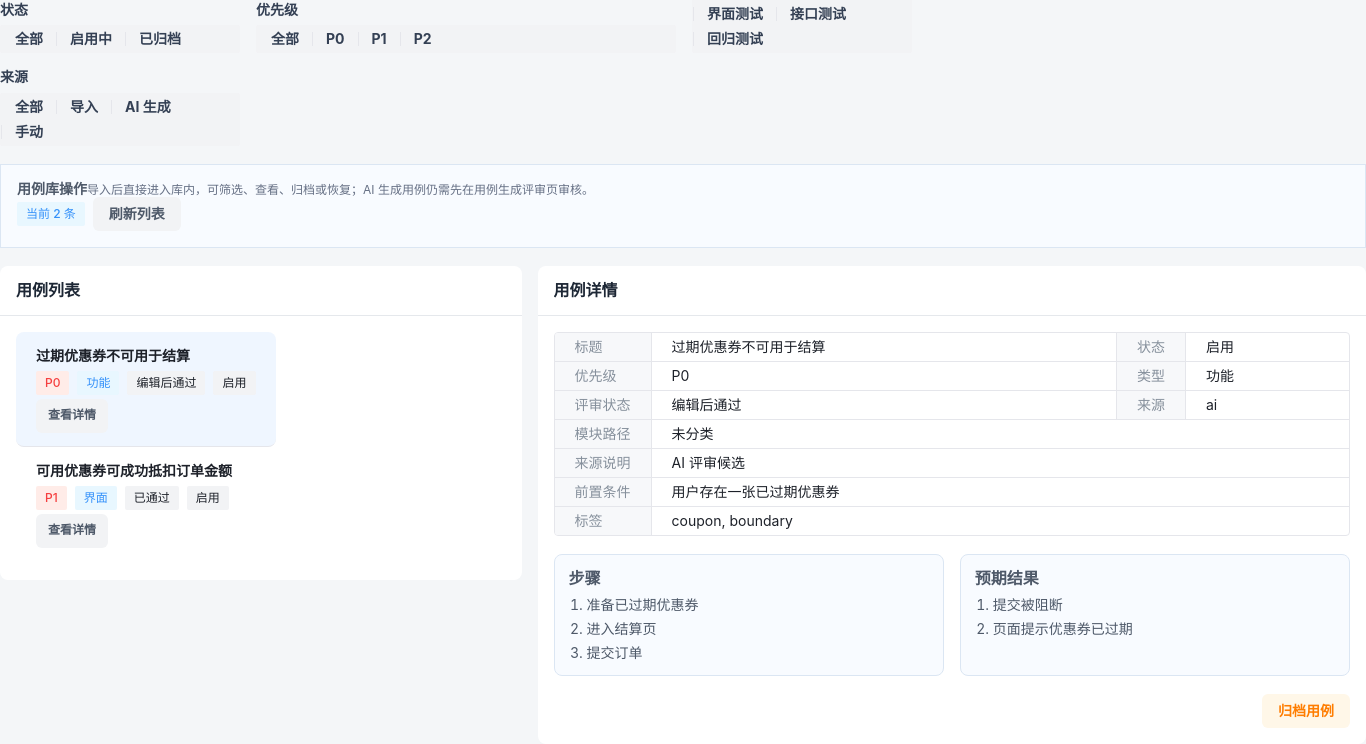
Test: TestCaseLibraryView › lists reviewed test cases and shows selected case detail
This screenshot has width=1366, height=744.
(page scrolled)
Expected: the number of list items with test id "recent-test-case-row" is 2, [16, 332, 276, 447]; [36, 462, 232, 548]
Click the button with test id "resume-test-case" below "已通过": (72, 531) [36, 514, 108, 548]
(page scrolled)
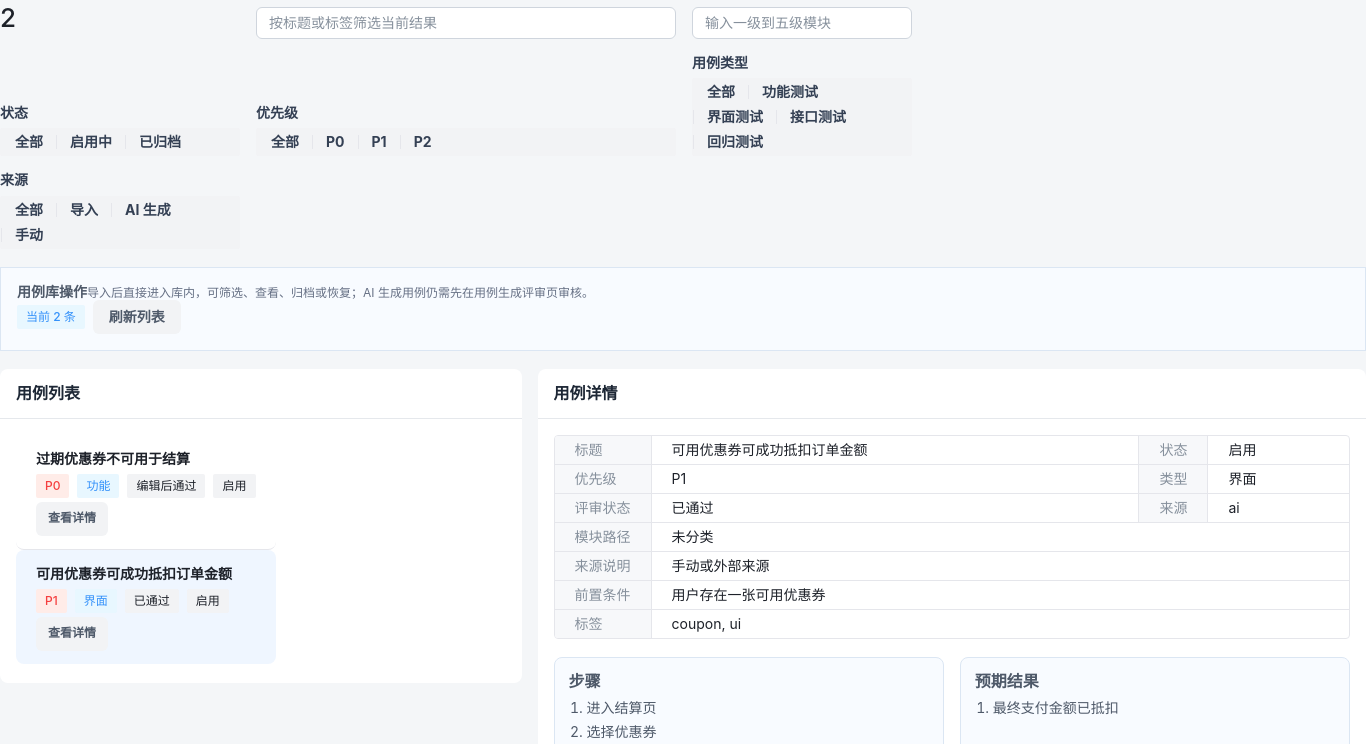
Expected: the element with test id "test-case-library-page" shows "最终支付金额已抵扣", [993, 699, 1119, 716]
